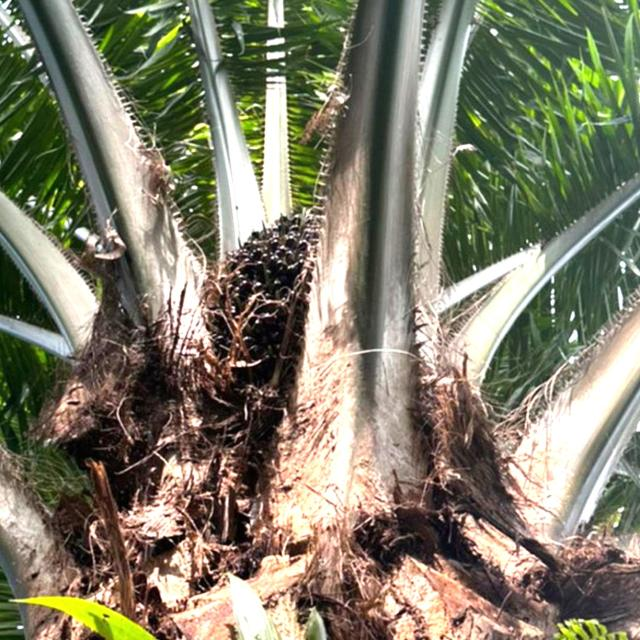almost: (193, 197, 339, 394)
